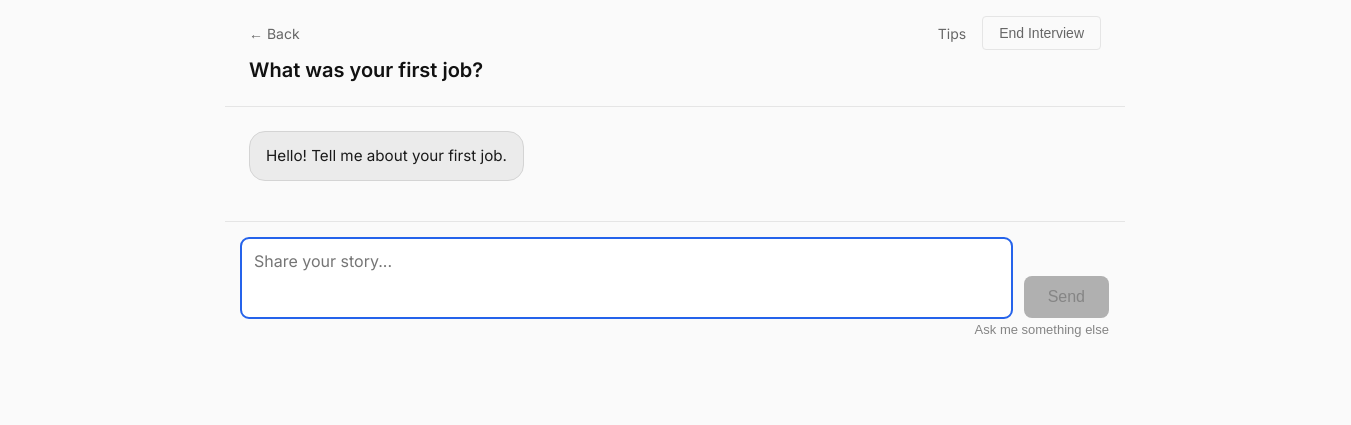
Test case: InterviewSession › shows inline error on mutation failure
Type "Test message" into the text box with placeholder "Share your story..." at {"x": 626, "y": 278}, box [241,238,1012,318]
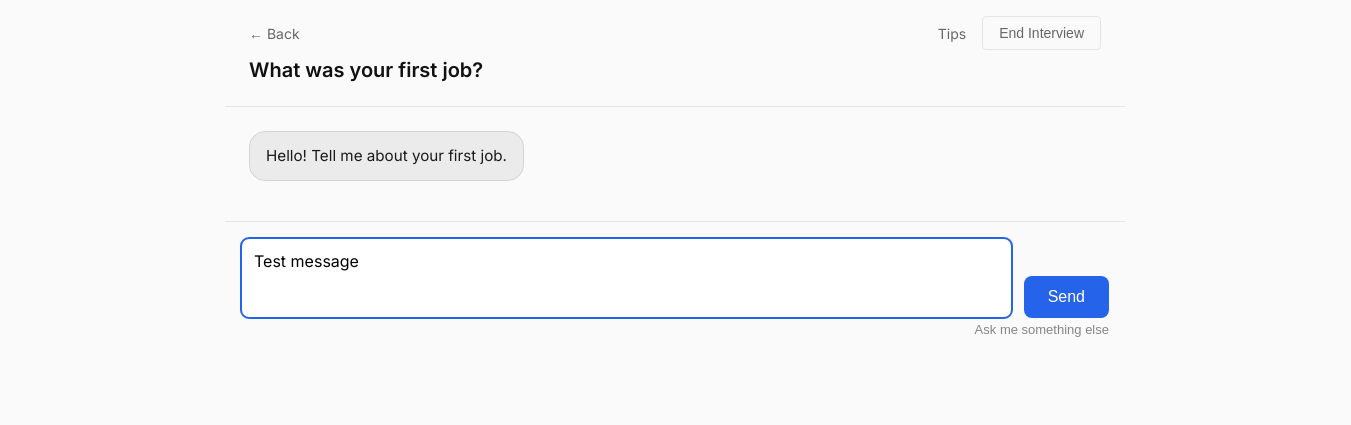
Press Enter
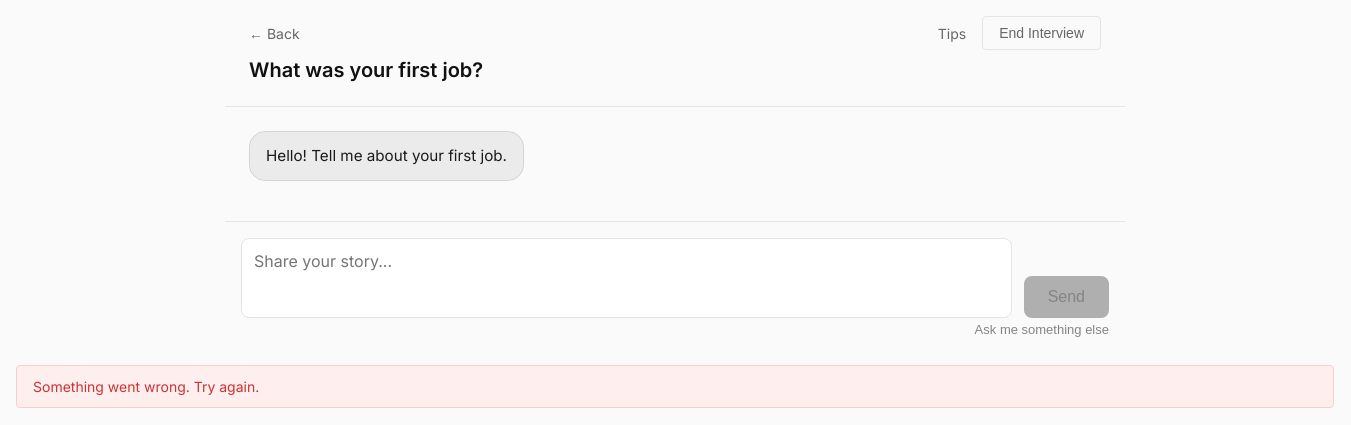
Expected: the text box with placeholder "Share your story..." is enabled, [241,238,1012,318]
Expected: the text "Something went wrong. Try again." is shown, [16,365,1334,408]
